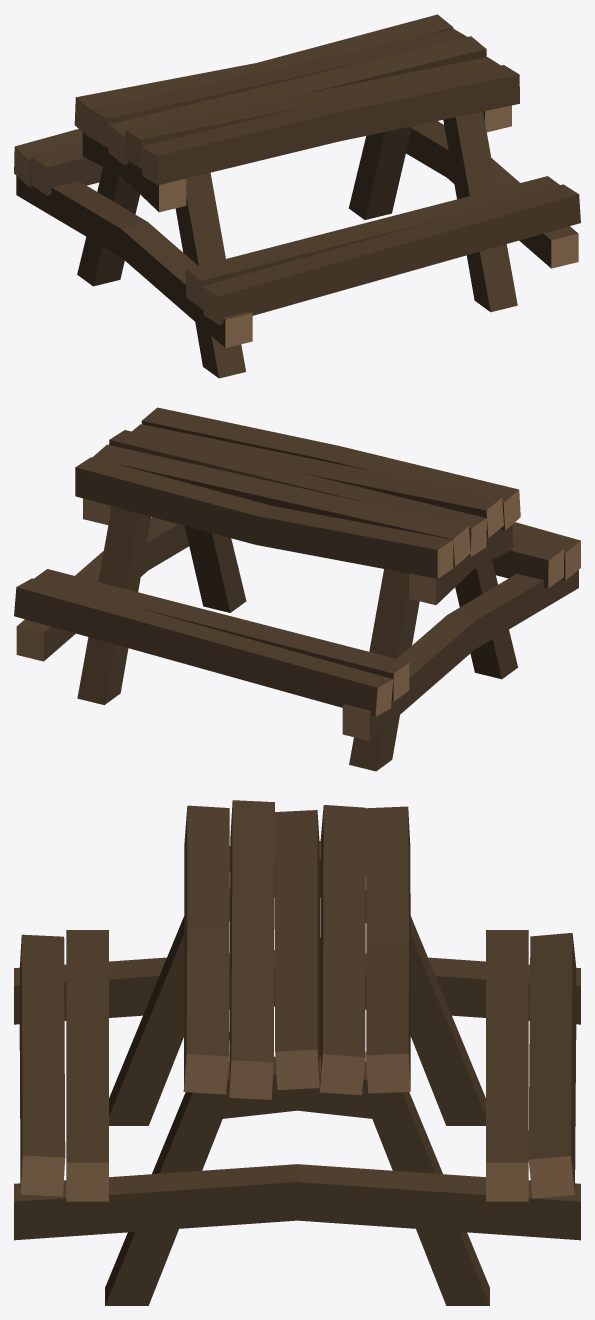
File: Table_3_Brown.fbx
3 renders of one model, top to bottom at view 1: azimuth 30°, elevation 25°; view 2: azimuth 150°, elevation 25°; view 3: azimuth 270°, elevation 25°, orthographic. The views are drawn at different scales.
Visible parts, largest first — view 1: Table_3_Brown_Part_1, Table_3_Brown_Part_2; view 2: Table_3_Brown_Part_1, Table_3_Brown_Part_2; view 3: Table_3_Brown_Part_1, Table_3_Brown_Part_2.
Boxes of the visible parts, <box> form: Table_3_Brown_Part_1: <box>15,14,580,378</box>; Table_3_Brown_Part_2: <box>14,97,578,347</box>; Table_3_Brown_Part_1: <box>14,407,580,771</box>; Table_3_Brown_Part_2: <box>16,490,580,740</box>; Table_3_Brown_Part_1: <box>14,800,580,1305</box>; Table_3_Brown_Part_2: <box>20,872,574,1201</box>.
Bounding box in the file's own units: 241 × 134 × 240.
